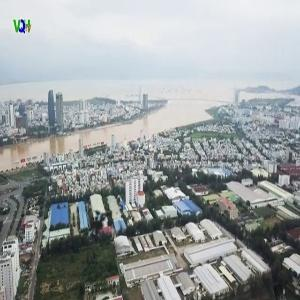drone: (58, 184, 145, 271)
